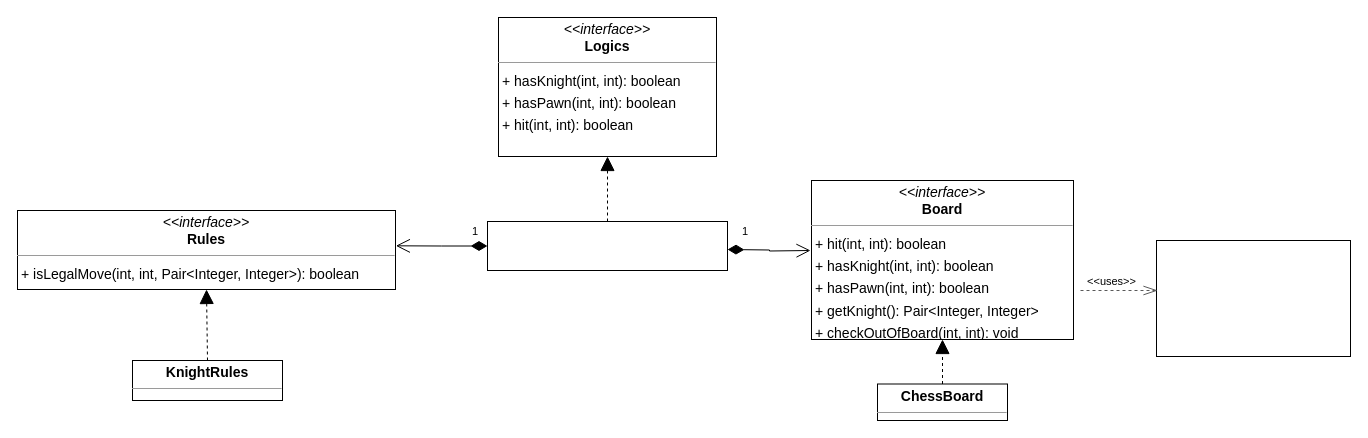
The diagram is 1368 pixels wide and 438 high, and some of its shapes have lost their labels. The centre of each missing label's shape, as x and y in pixels:
LogicsImpl: point (607, 245)
Pair + equals(Object): boolean + getY(): Y + getX(): X: point (1253, 298)
